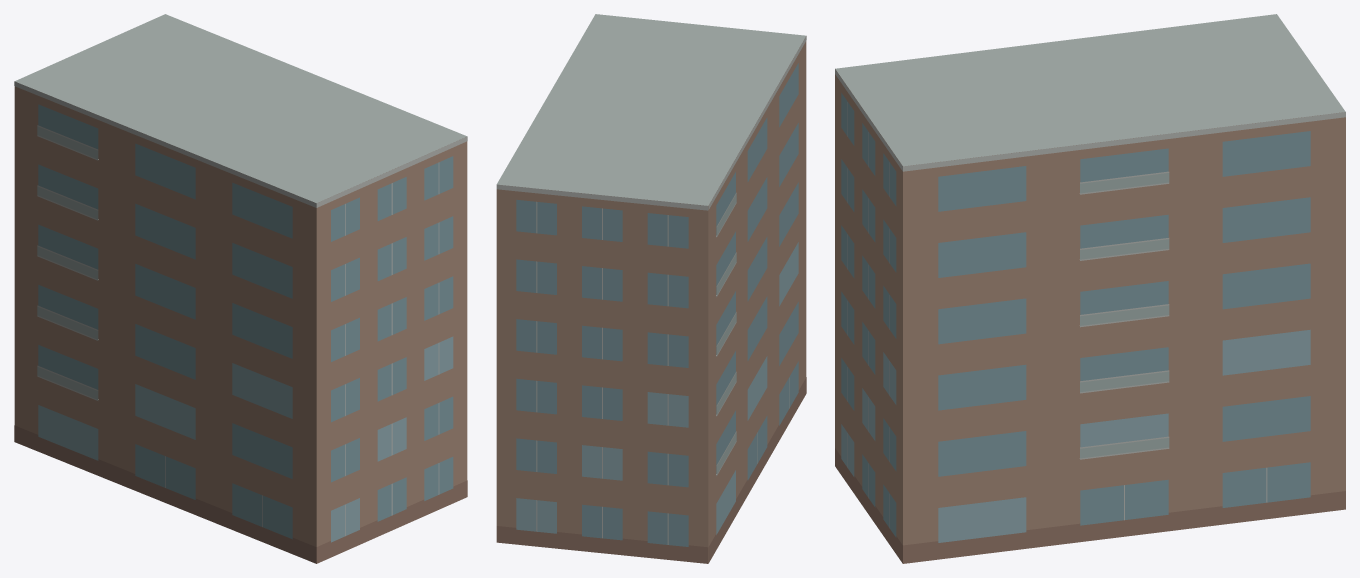
Rendered from survey-upis-32862374.glb.
3 views of the same model, side by side, from view 1: azimuth 30°, elevation 25°; view 2: azimuth 150°, elevation 25°; view 3: azimuth 270°, elevation 25° (orthographic). The views are drawn at different scales.
Parts seen in each view (by area): view 1: survey-upis-32862374.tmp; view 2: survey-upis-32862374.tmp; view 3: survey-upis-32862374.tmp.
Part boxes in pixels (left/top/right/bottom): survey-upis-32862374.tmp: left=14, top=14, right=467, bottom=563; survey-upis-32862374.tmp: left=496, top=14, right=806, bottom=563; survey-upis-32862374.tmp: left=835, top=14, right=1345, bottom=563.
Bounding box in the file's own units: 15.06 × 18.3 × 21.32.
